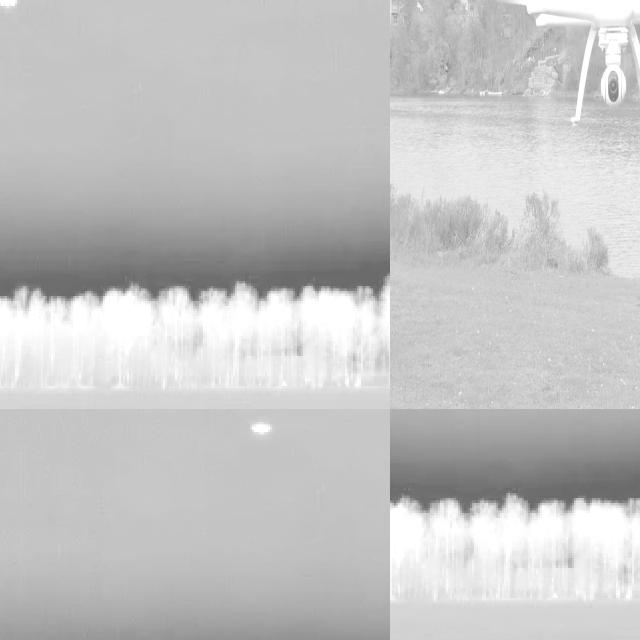1: (250, 416, 284, 443), (0, 0, 30, 15)
drone: (523, 0, 640, 131)
